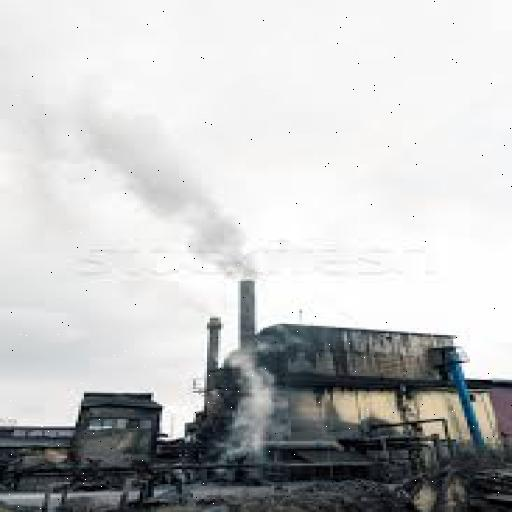smoke: (90, 136, 291, 296)
